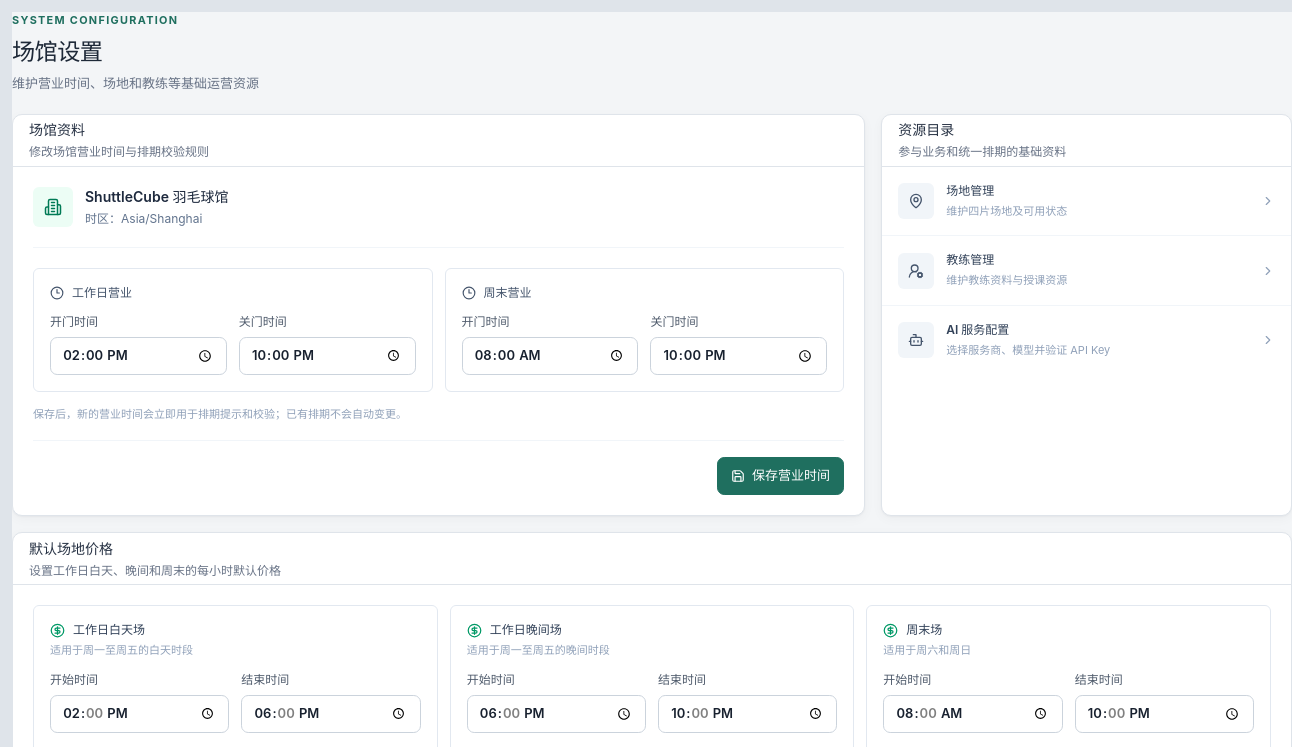
Test case: venue settings › validates and saves weekday and weekend business hours
Expected: the time field named "工作日开门时间" holds "14:00", [50,337,227,375]
Replace the text in the time field named "工作日关门时间" with "13:30" at (327, 356), box [239,337,416,375]
Click the button "保存营业时间".
click(780, 476)  # box [717,457,844,495]
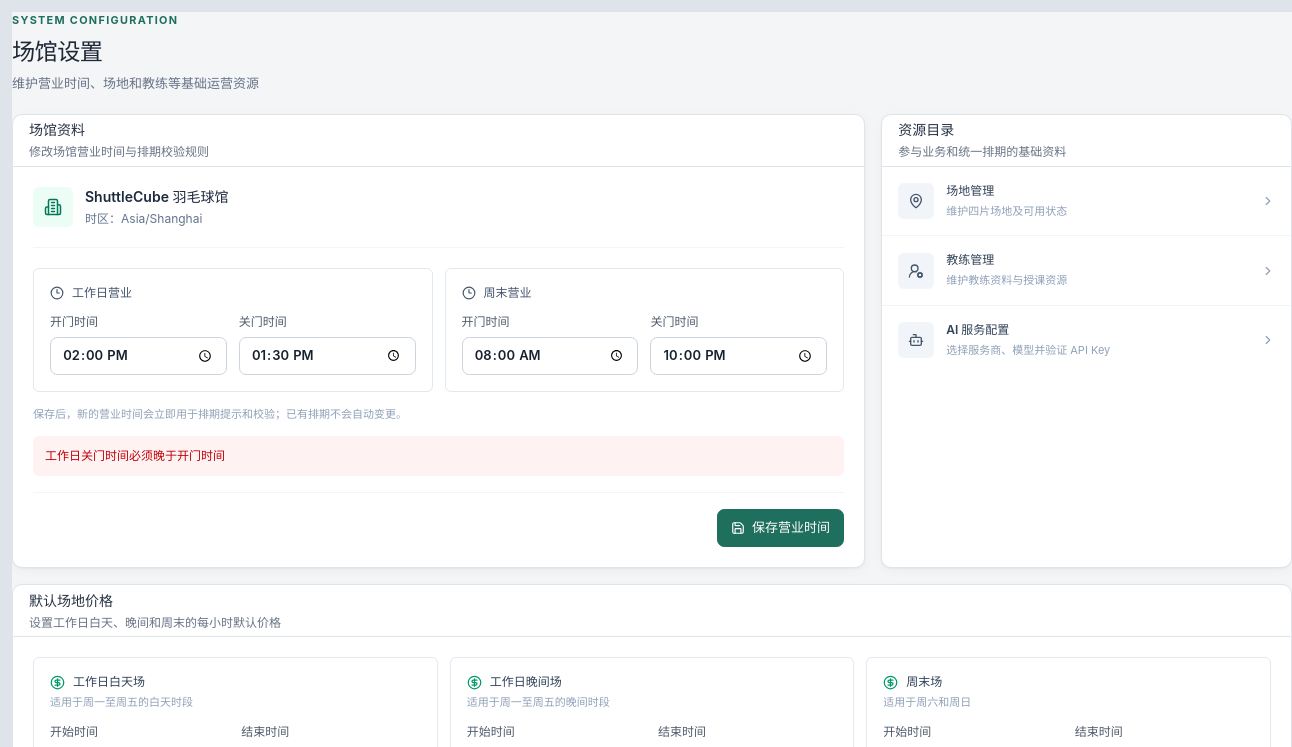
Now the message reads "工作日关门时间必须晚于开门时间", box [45,448,225,463]
Replace the text in the time field named "工作日开门时间" with "13:30" at (138, 356), box [50,337,227,375]
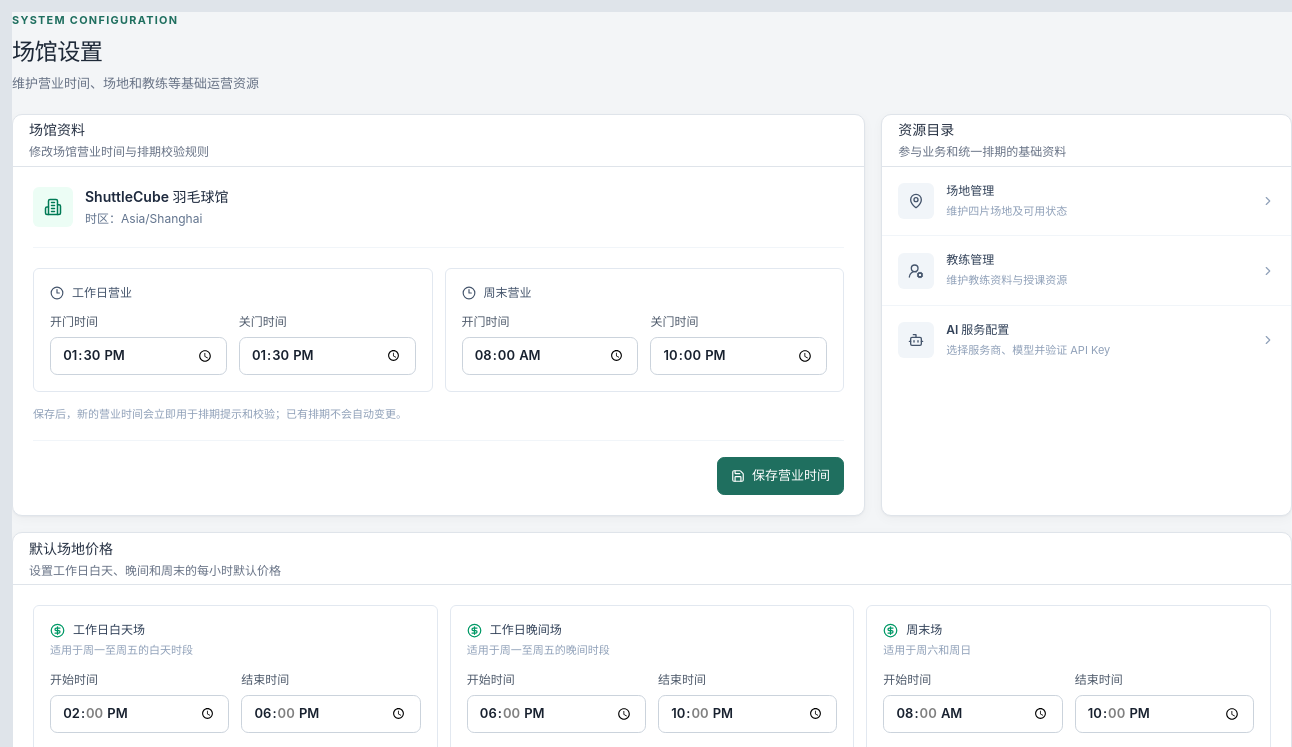
Replace the text in the time field named "工作日关门时间" with "23:00" at (327, 356), box [239,337,416,375]
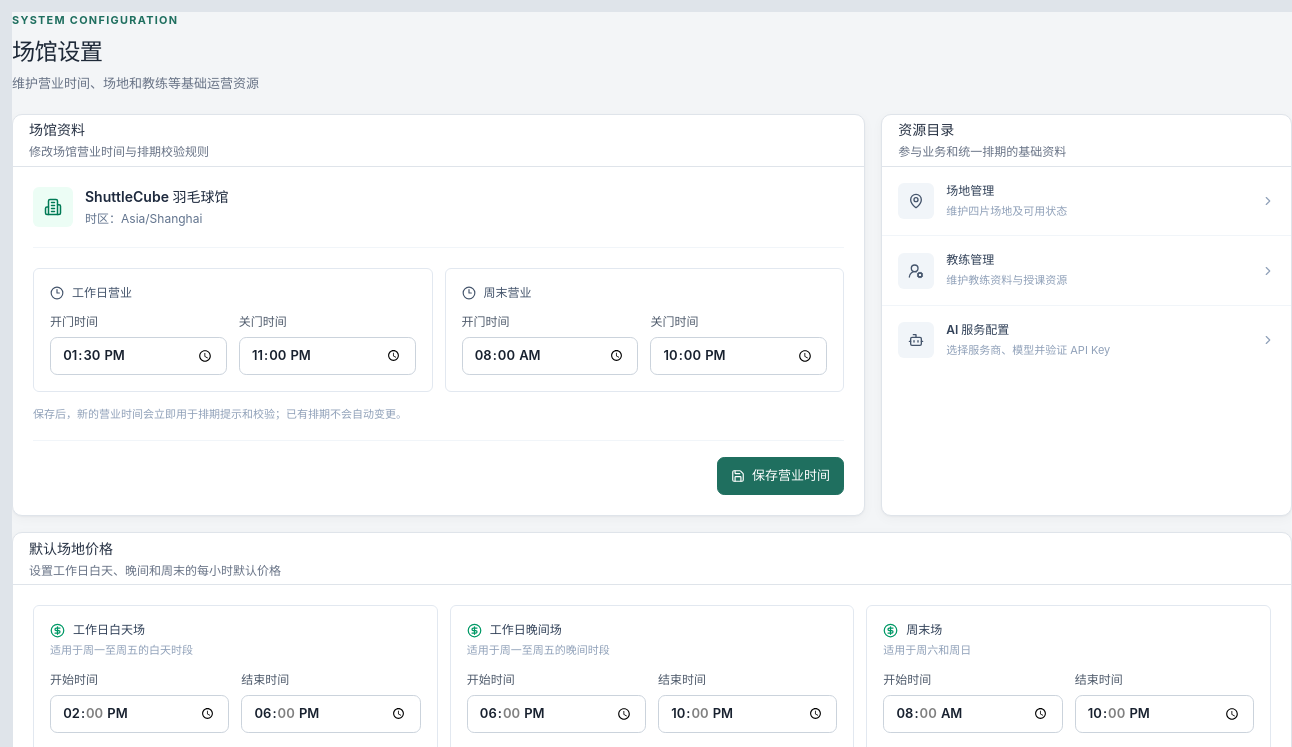
Replace the text in the time field named "周末开门时间" with "07:30" at (550, 356), box [462,337,638,375]
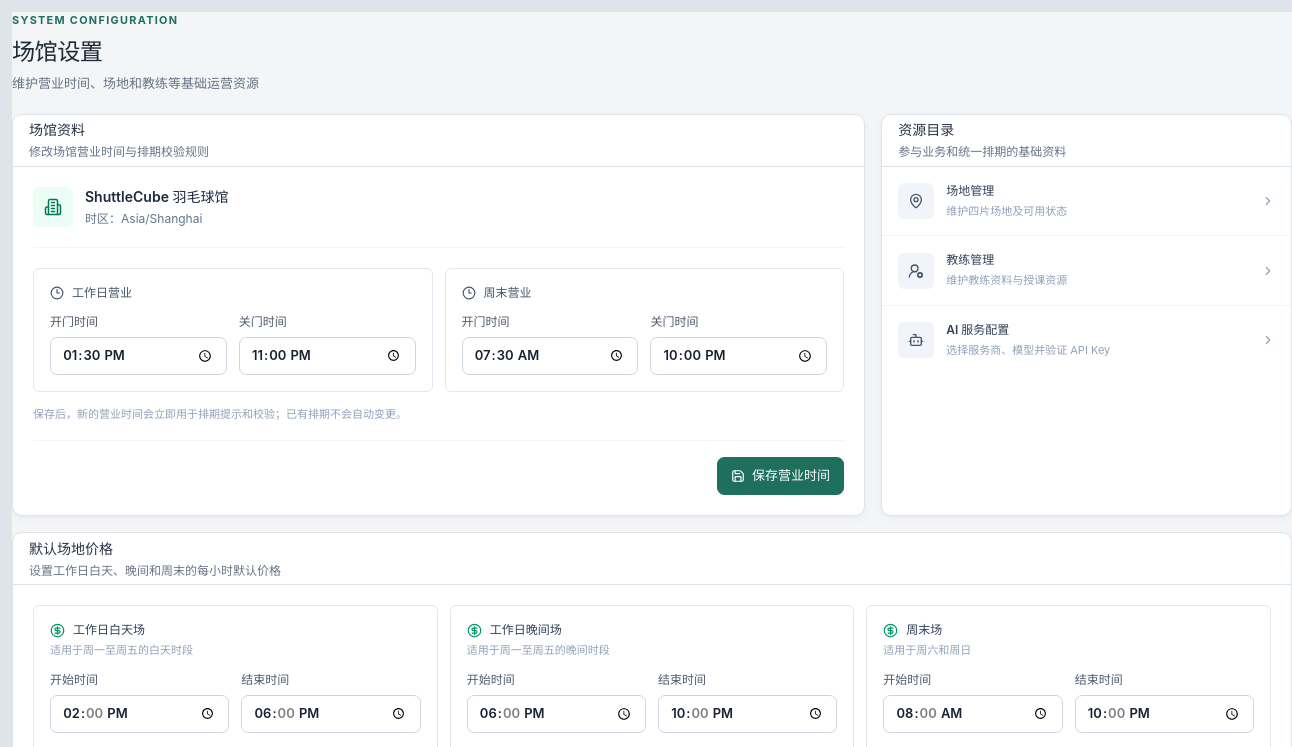
Replace the text in the time field named "周末关门时间" with "23:30" at (739, 356), box [650,337,827,375]
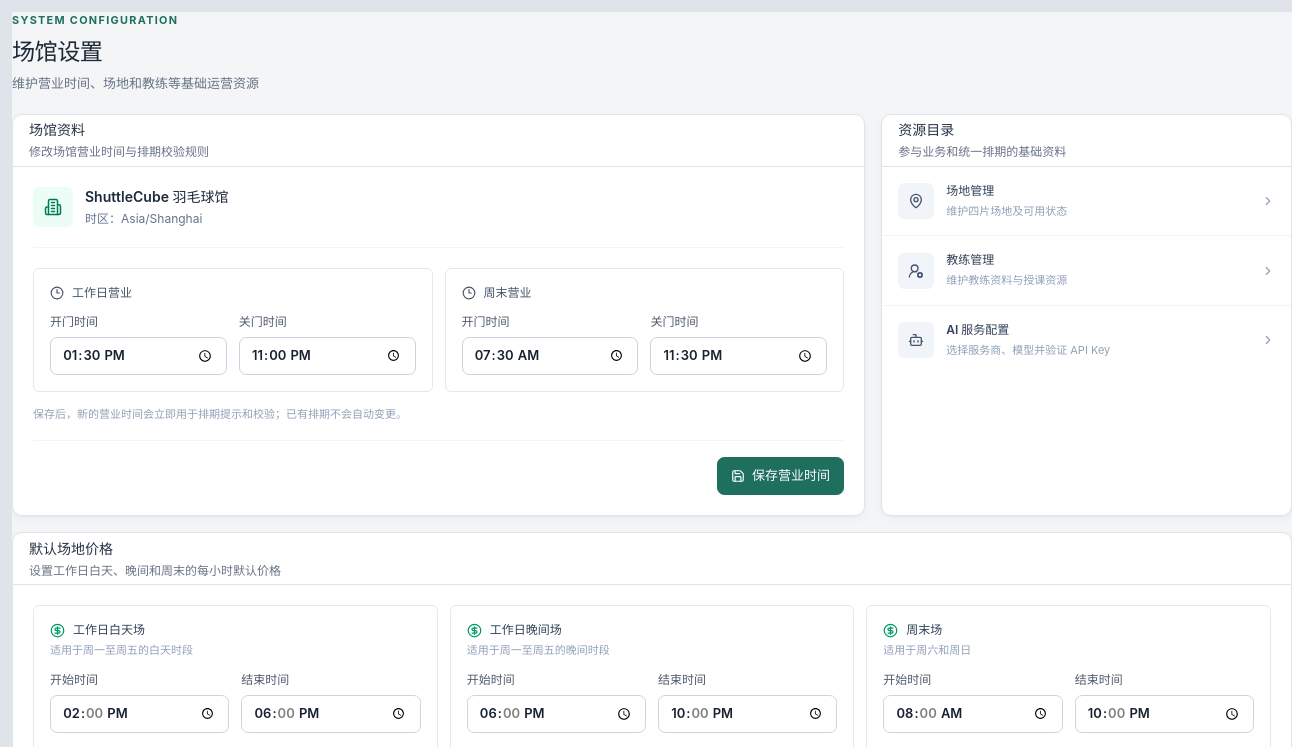
Click the button "保存营业时间".
click(780, 476)  # box [717,457,844,495]
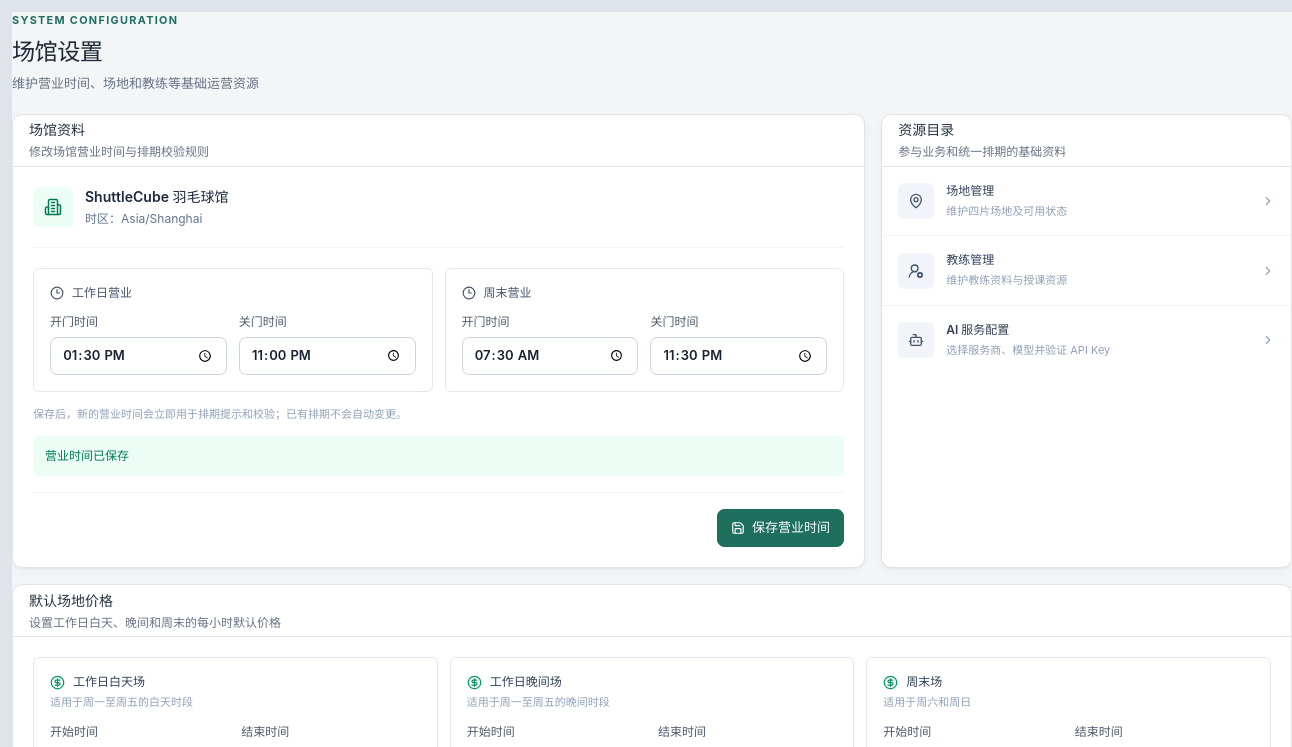
Now the message reads "营业时间已保存", box [45,448,129,463]
